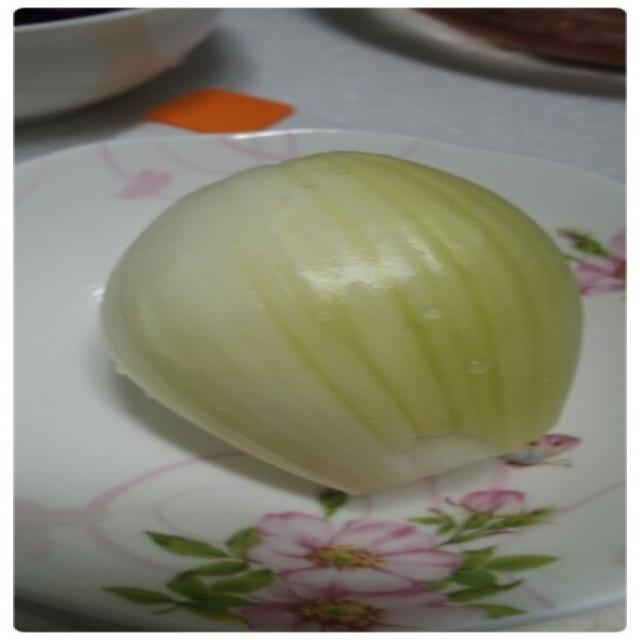onion: (79, 145, 622, 520)
